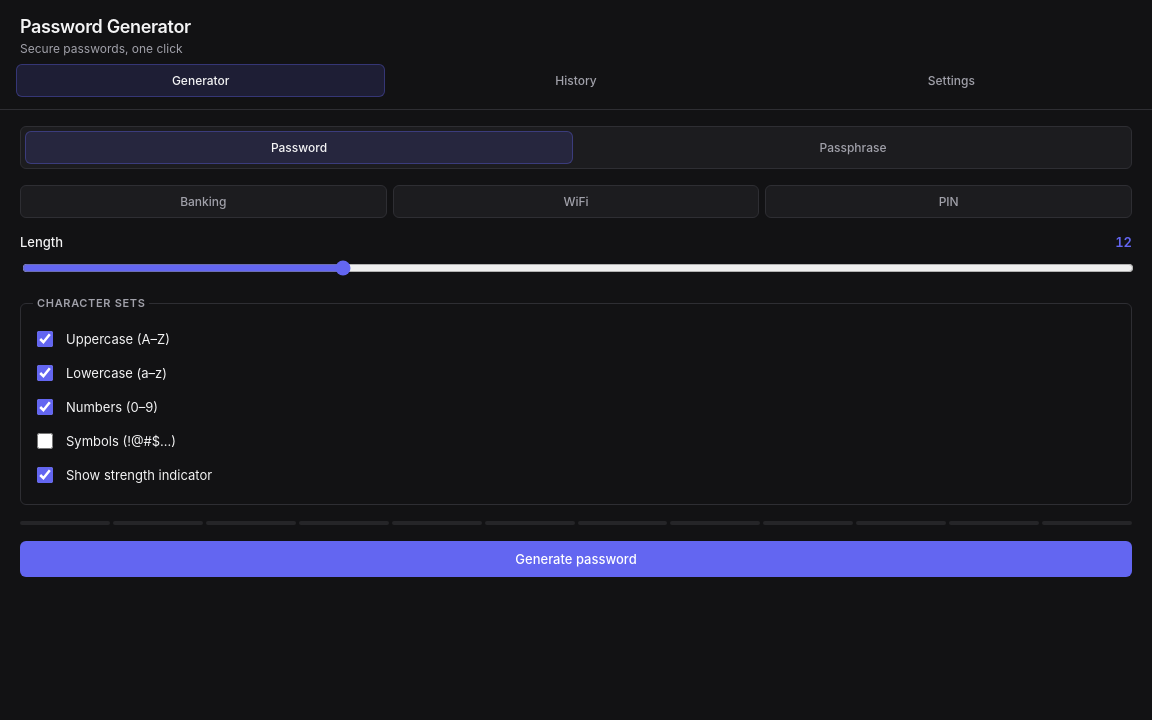
Test: App integration › HIST-01: history tab shows empty state when disabled
This screenshot has width=1152, height=720.
Click the button "history": point(576, 80) [391,64,761,97]
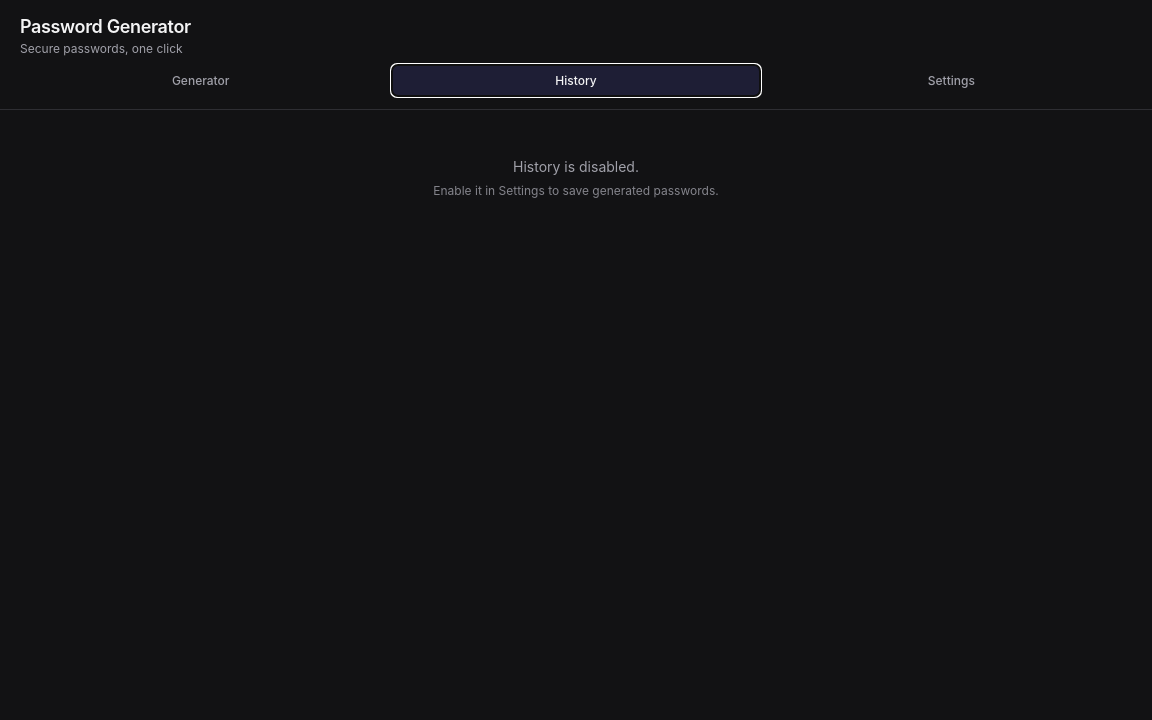
Result: the text "History is disabled." is shown at [513,158,639,175]
